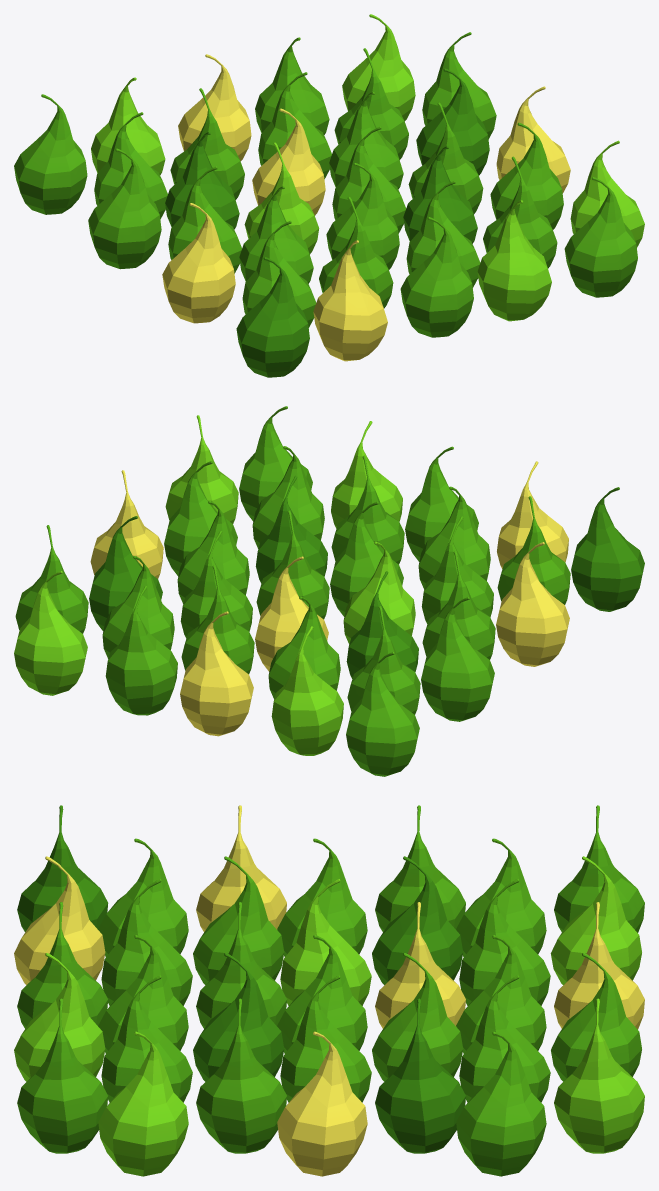
The model's file is FBX_Pear.fbx.
The picture shows the model from 3 angles, top to bottom: view 1: azimuth 30°, elevation 25°; view 2: azimuth 150°, elevation 25°; view 3: azimuth 270°, elevation 25°; orthographic projection. The views are drawn at different scales.
Visible parts, largest first — view 1: M_Pear; view 2: M_Pear; view 3: M_Pear.
Part boxes in pixels (left/top/right/bottom): M_Pear: left=14, top=14, right=644, bottom=377; M_Pear: left=14, top=406, right=644, bottom=776; M_Pear: left=14, top=805, right=644, bottom=1176.
Bounding box in the file's own units: 0.7455 × 0.1969 × 0.7792.
